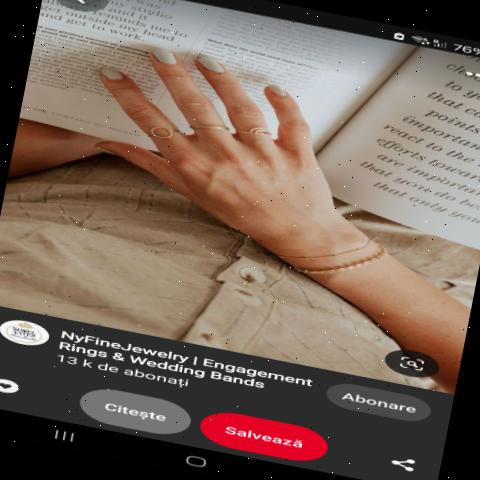hands: (29, 16, 470, 356)
